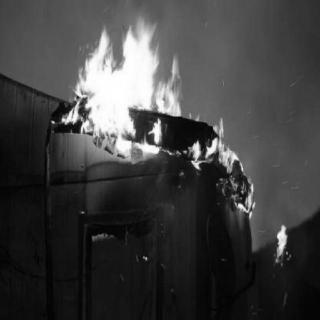Fire: (54, 16, 183, 158), (185, 116, 261, 218), (273, 217, 293, 275)
